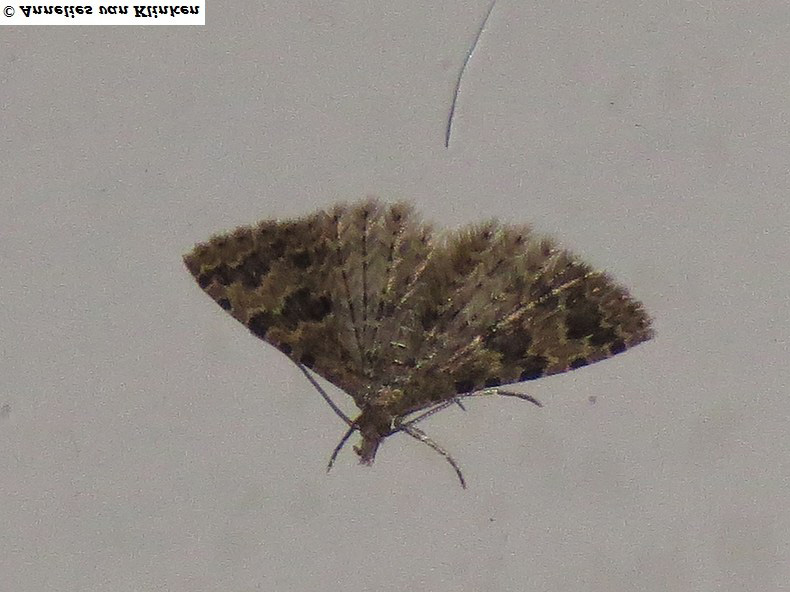Alucitidae: (163, 185, 654, 491)
moth: (165, 187, 656, 493)
